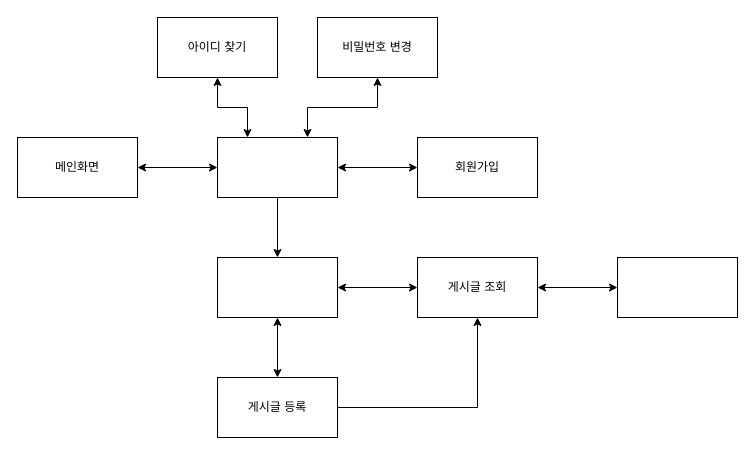
This 755x455 diagram has some shape labels left out. The centre of each missing label's shape, as x and y in pixels:
"게시글 목록" goes at pixel 277 287.
"게시글 수정" goes at pixel 677 287.
"로그인" goes at pixel 277 167.
